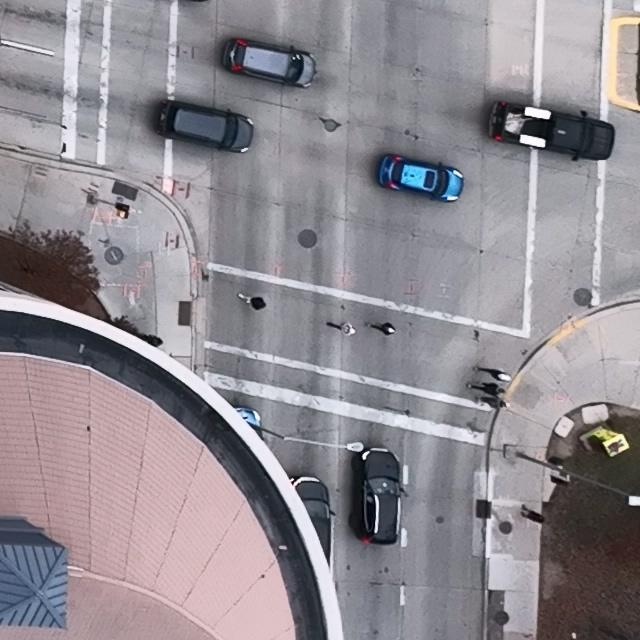car: (486, 100, 616, 161), (350, 445, 406, 546), (150, 99, 254, 152), (287, 477, 337, 576), (219, 37, 316, 88), (376, 154, 463, 202)
